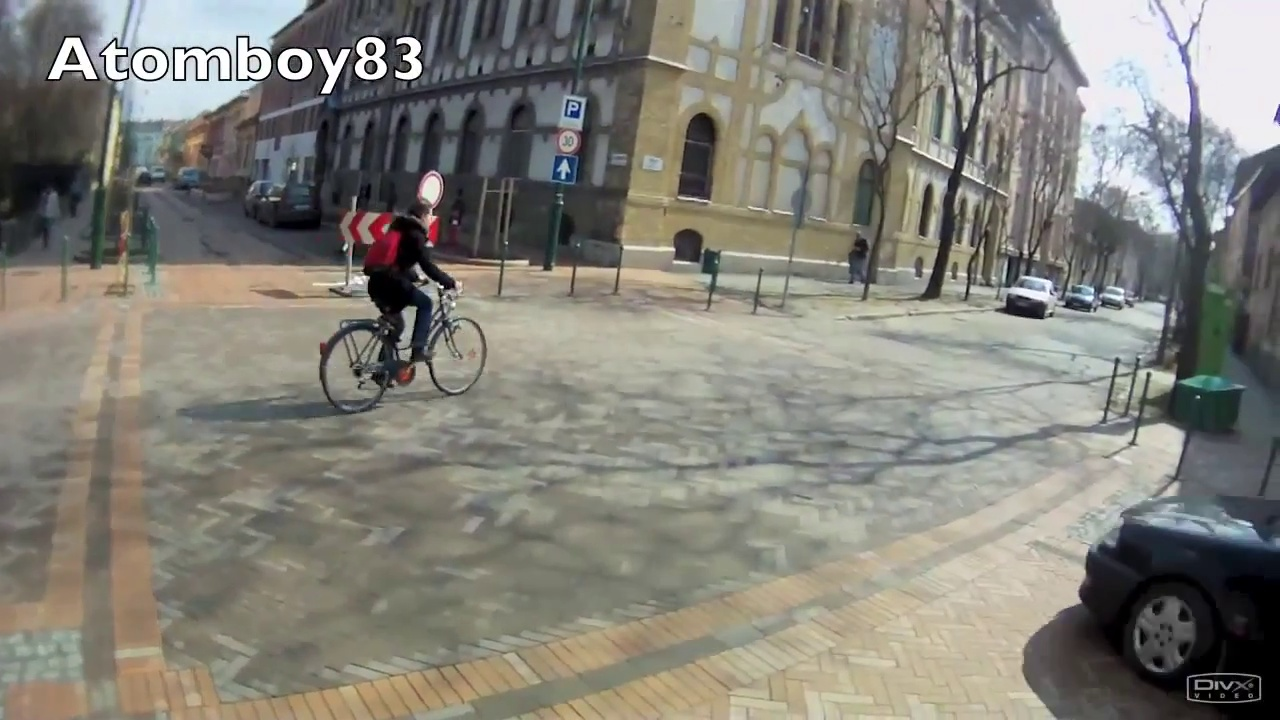cyclist_side: (321, 190, 488, 408)
